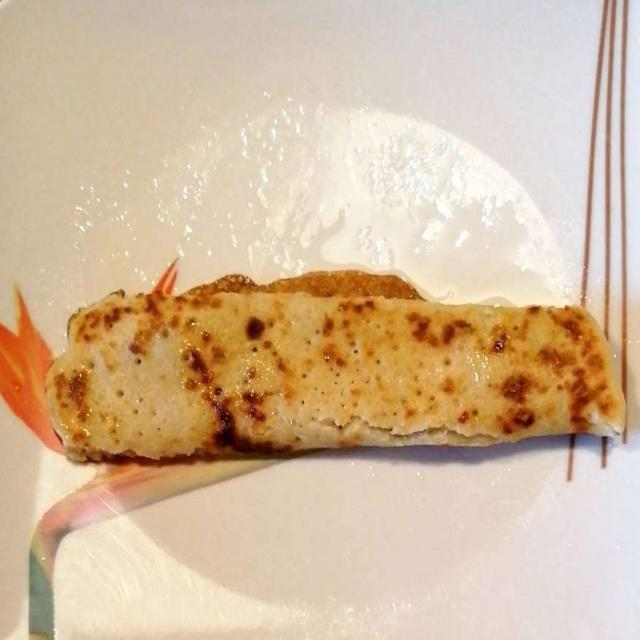crepe: (42, 272, 618, 471)
